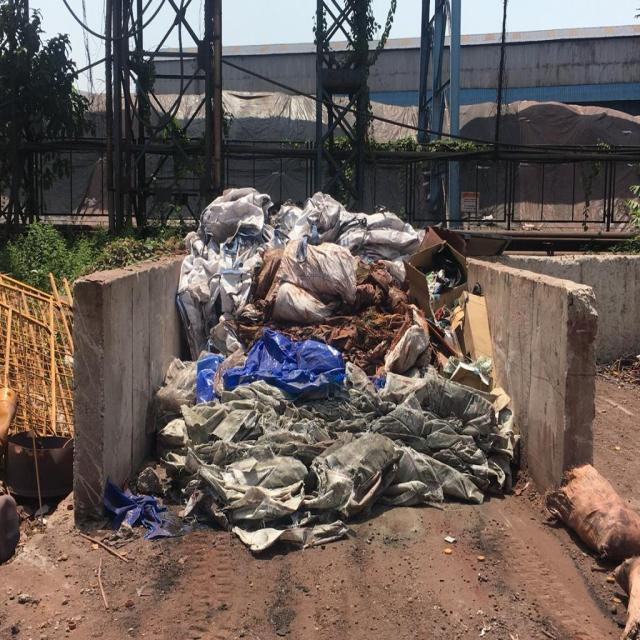dustbins: (76, 242, 592, 523)
